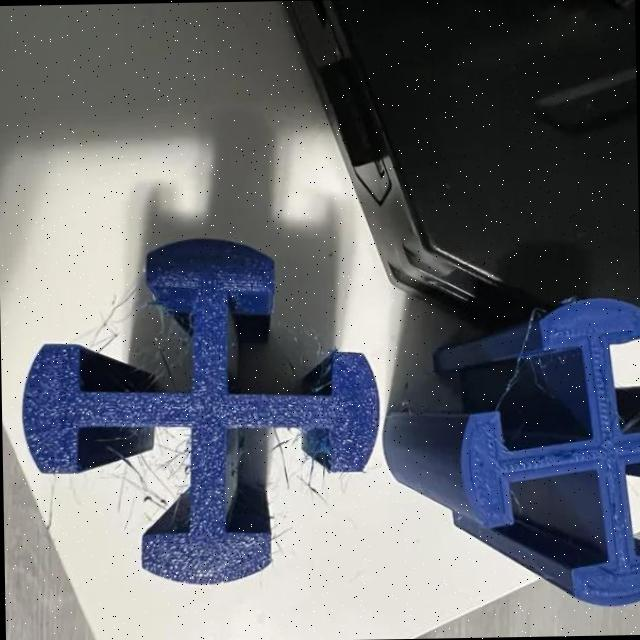stringing: (92, 432, 174, 511), (86, 283, 152, 350), (142, 333, 184, 370), (157, 437, 188, 480), (270, 434, 294, 473), (294, 462, 324, 489)
